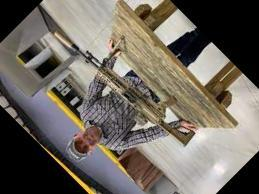larga: (55, 31, 196, 148)
